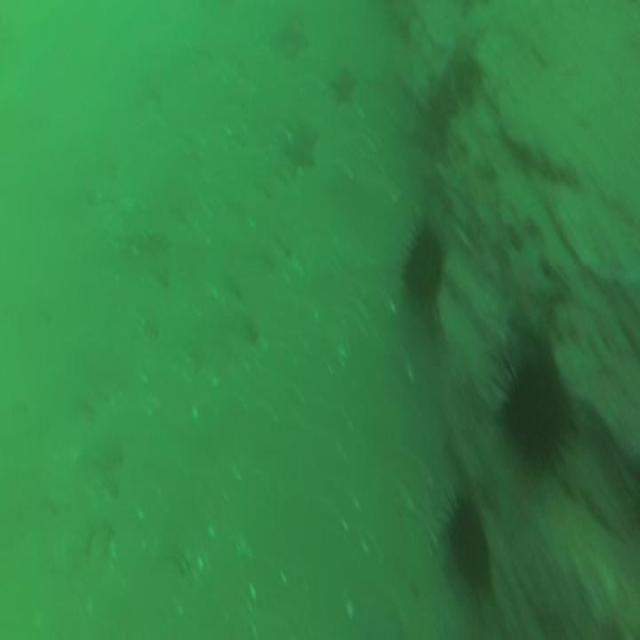echinus: (498, 337, 566, 466), (444, 491, 492, 599), (400, 220, 447, 311)
starfish: (498, 224, 570, 344), (492, 442, 556, 550), (424, 66, 460, 142), (284, 114, 320, 178), (329, 62, 359, 109)
